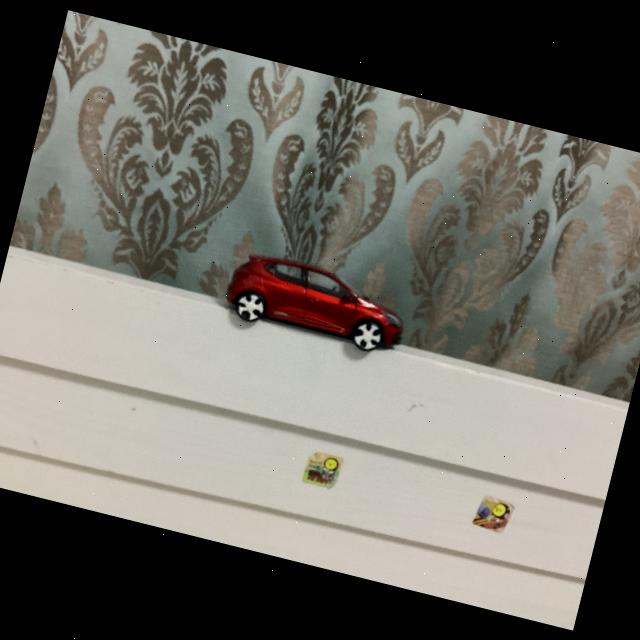Yanlis_Jant: (349, 319, 384, 352), (232, 290, 266, 323)
